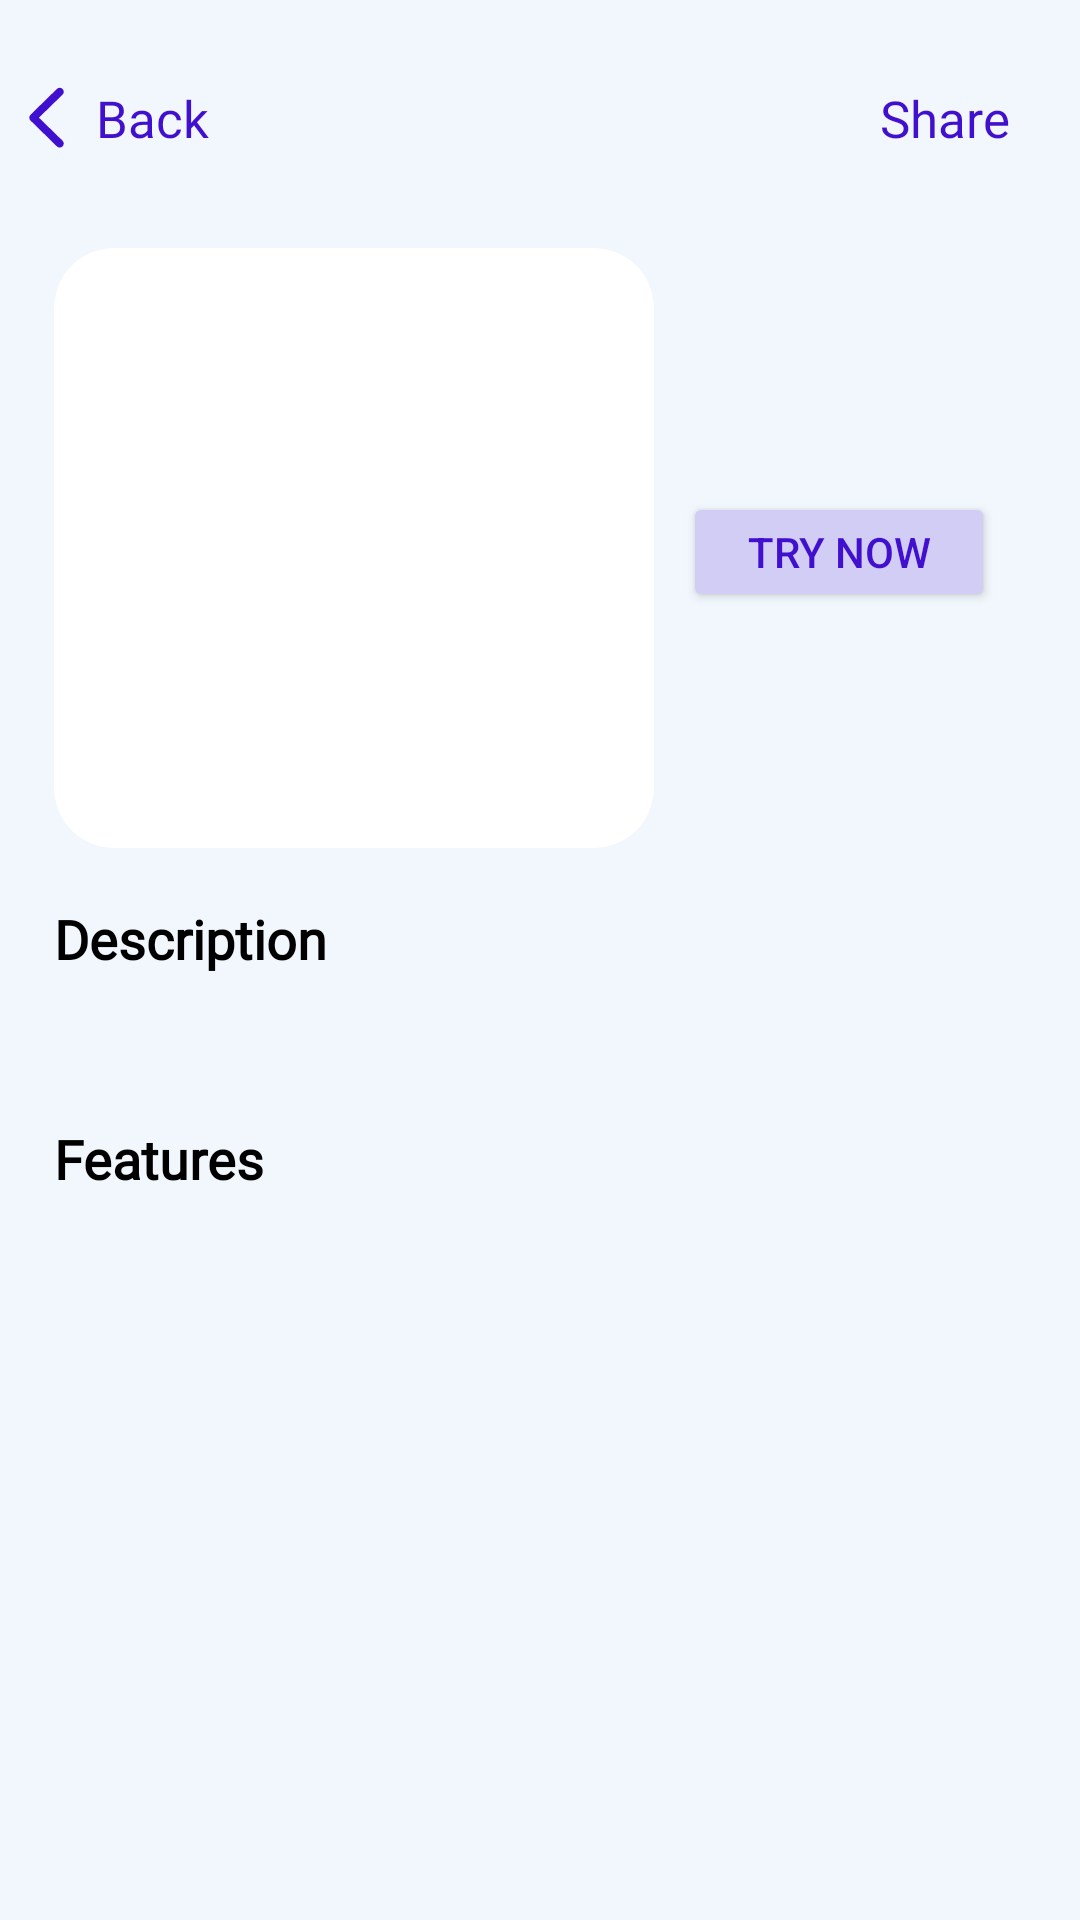

Named icons in this screenshot (1080px×1920px) and their centers, point (x, y):
chevron left: point (46, 117)
